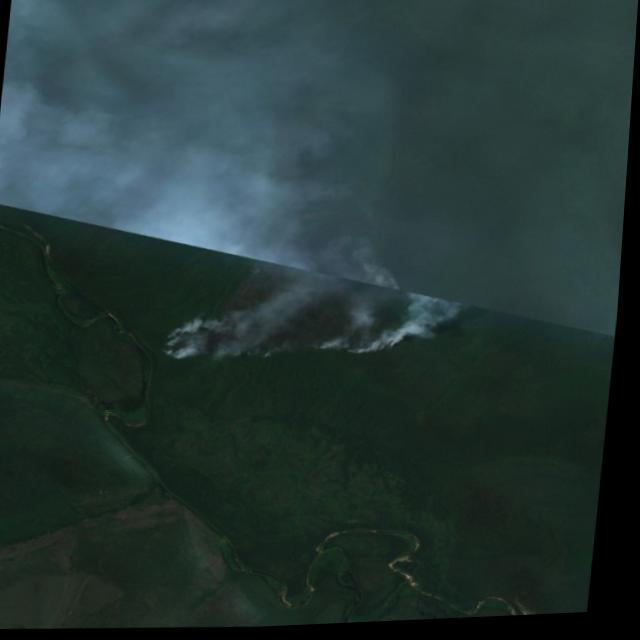fire: (161, 255, 456, 389)
